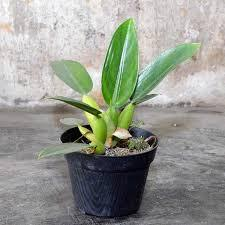jasmine: (122, 92, 198, 173), (34, 65, 95, 115), (108, 14, 146, 61)
